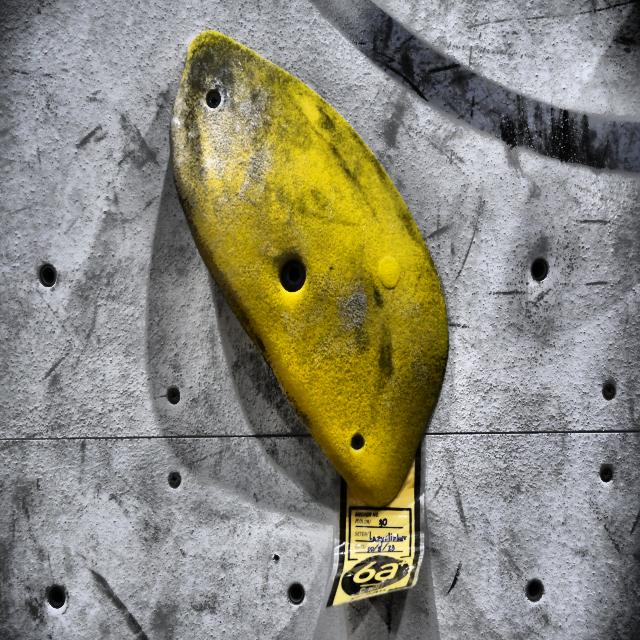Hold: (154, 20, 478, 537)
